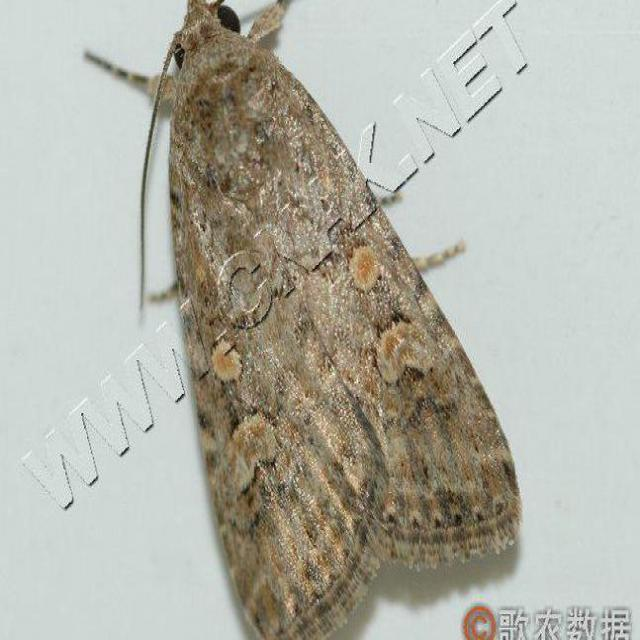armyworm: (146, 8, 527, 614)
